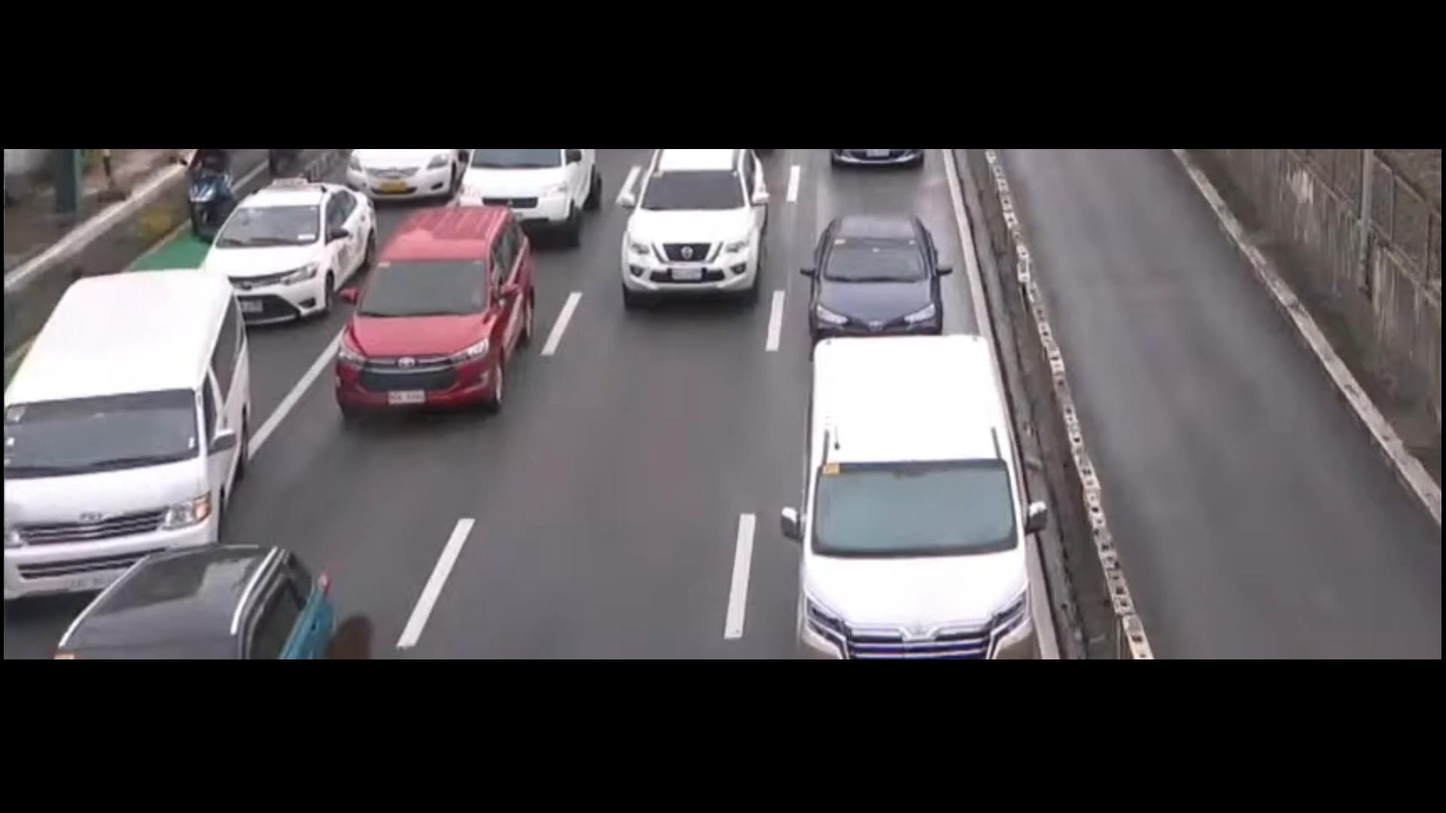Motorcycle: (182, 152, 242, 238)
SUV: (334, 205, 533, 421), (56, 545, 333, 659), (616, 147, 771, 304), (458, 148, 602, 238)
Sedan: (198, 176, 375, 334), (806, 214, 942, 346)
Van: (4, 268, 248, 609), (788, 336, 1038, 659)
